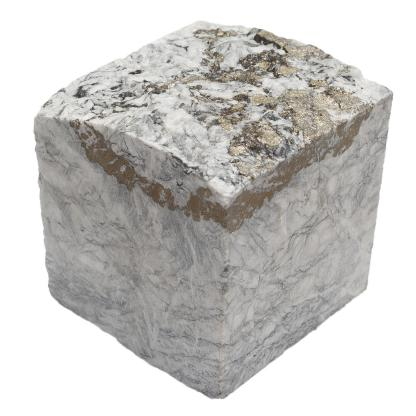Sedimentary_Limestone: (29, 22, 389, 401)
